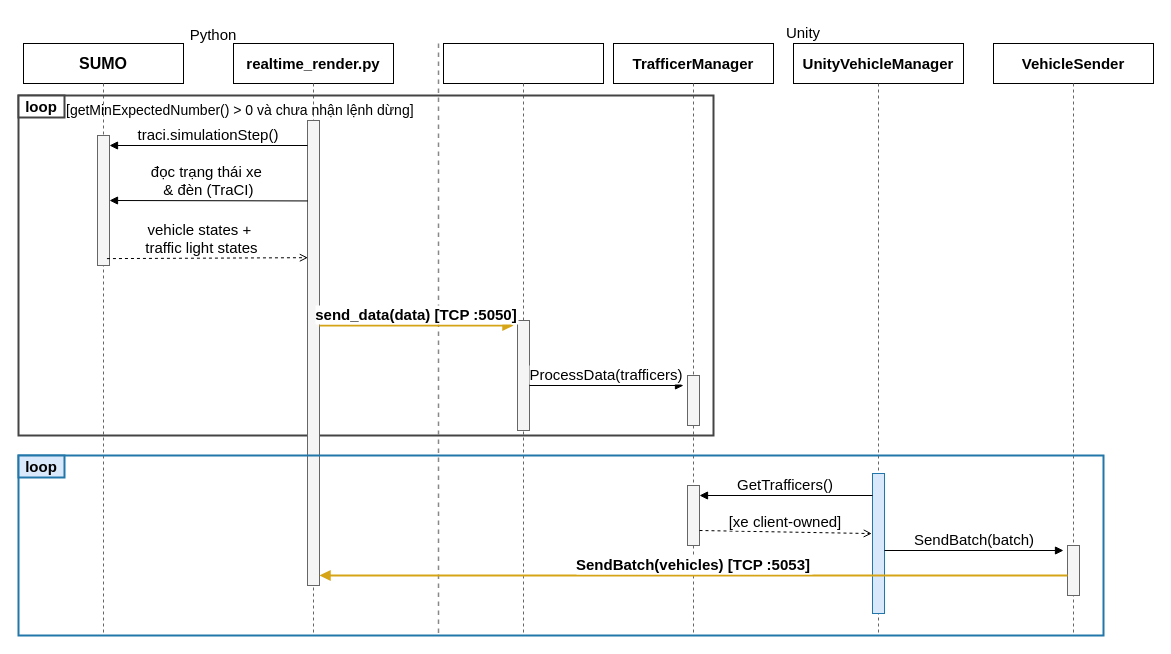
Some shapes in this 1171 by 654 pixel diagram are drawn without their labels. Here are the shapes that lost their labels. From the top down, the box of each, then its label:
(442, 42, 604, 84): TrafficDataListener
(306, 120, 320, 586): [mỗi 0.1s — SendVehicleDataRoutine, độc lập với download loop]
